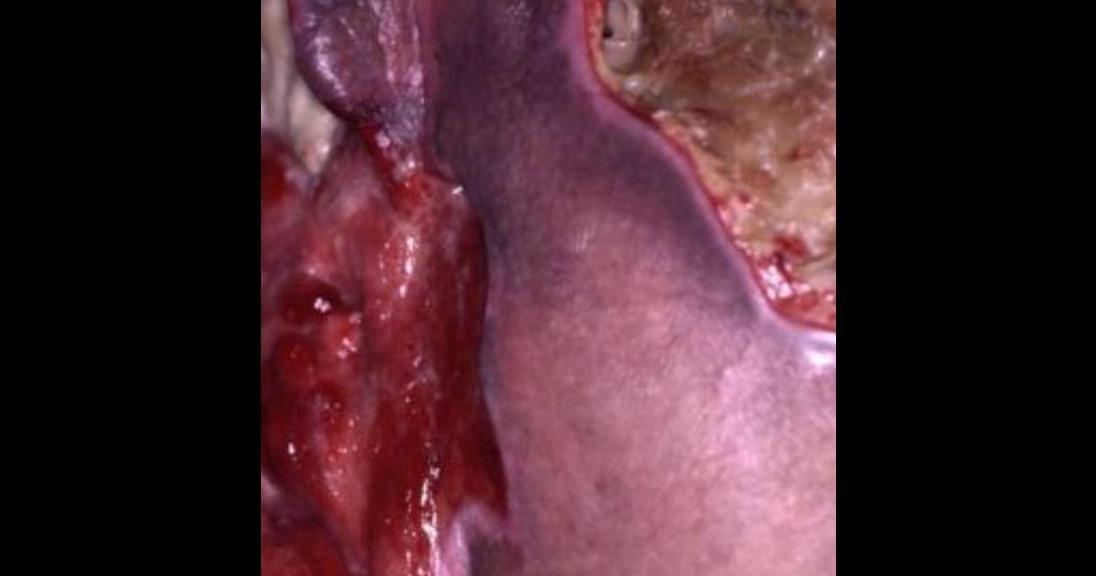Stage3: (260, 0, 557, 576)
